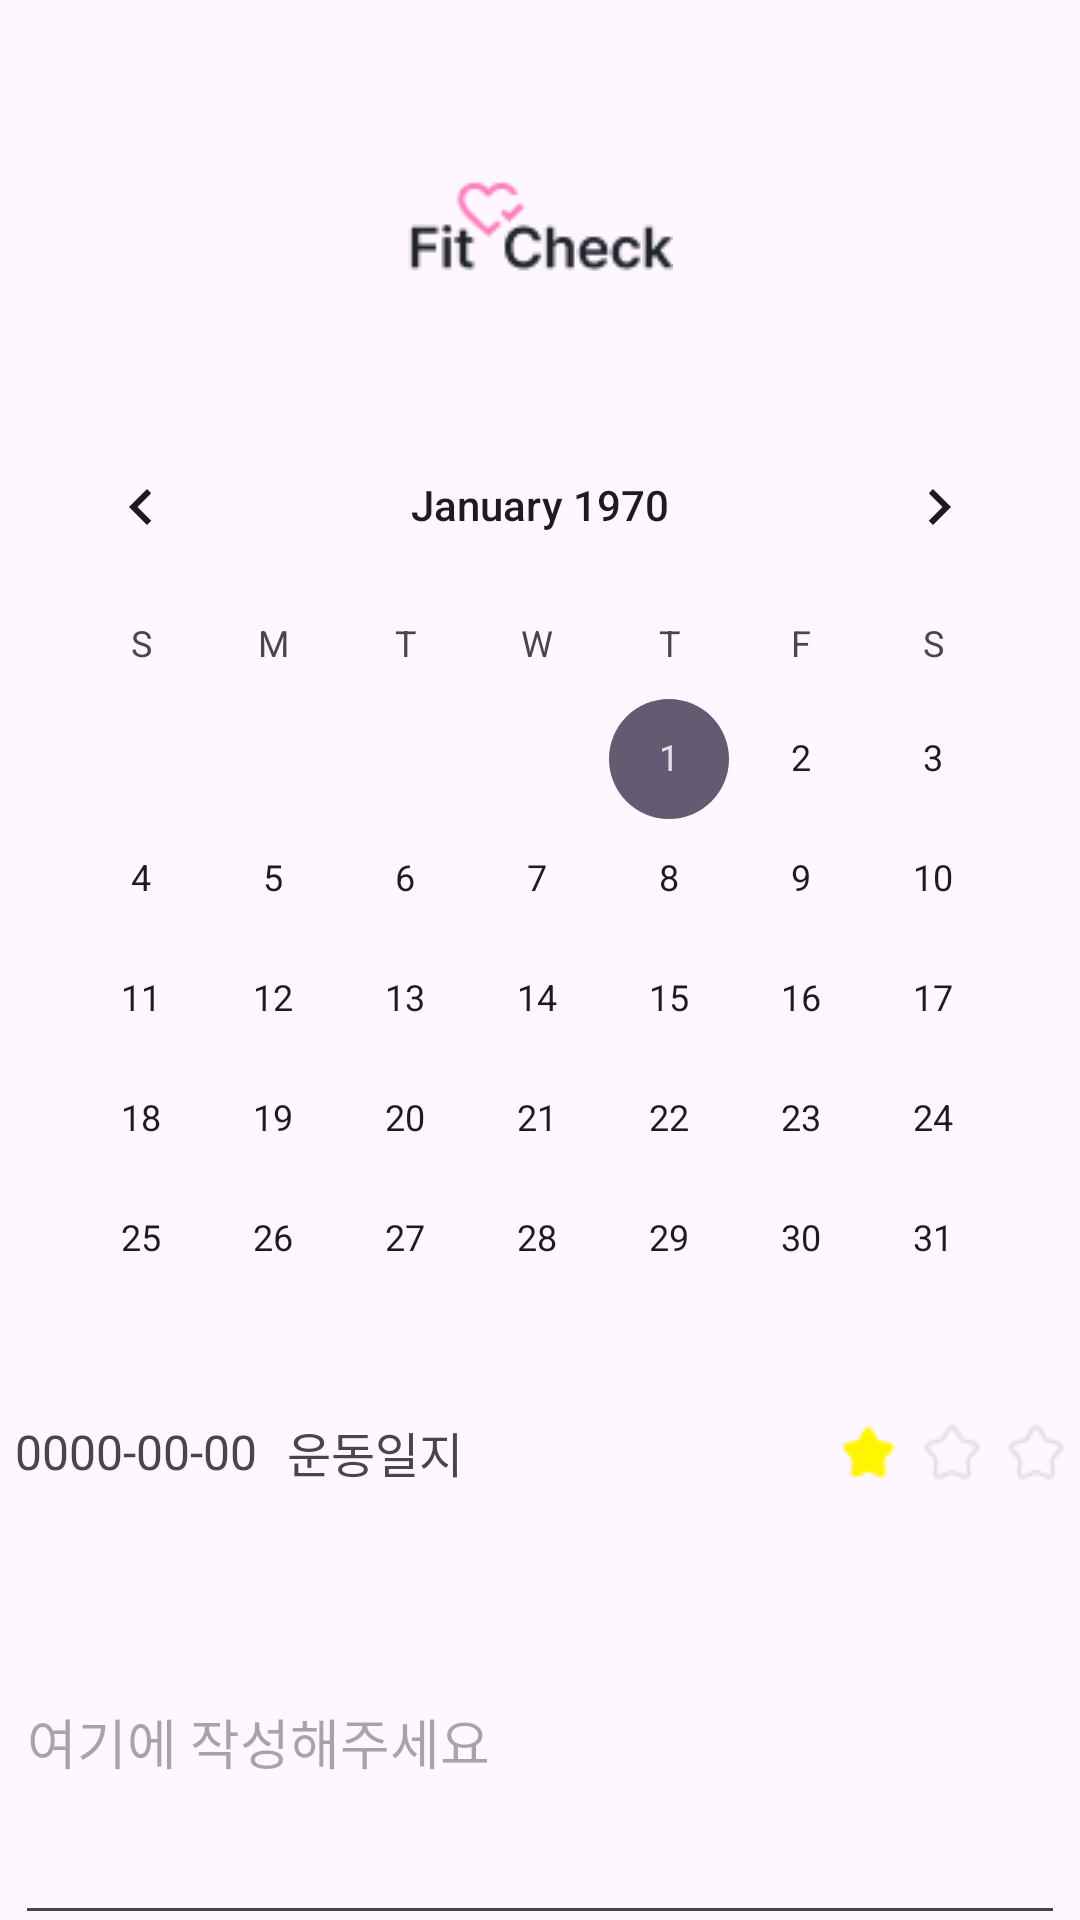

Locate icon controls on the screen. Image size 1080x1920, boxes as bbox=(x1, y1, x2, y2).
star: bbox=(841, 1425, 896, 1480)
star disable: bbox=(926, 1426, 978, 1478), bbox=(1010, 1426, 1062, 1478)
